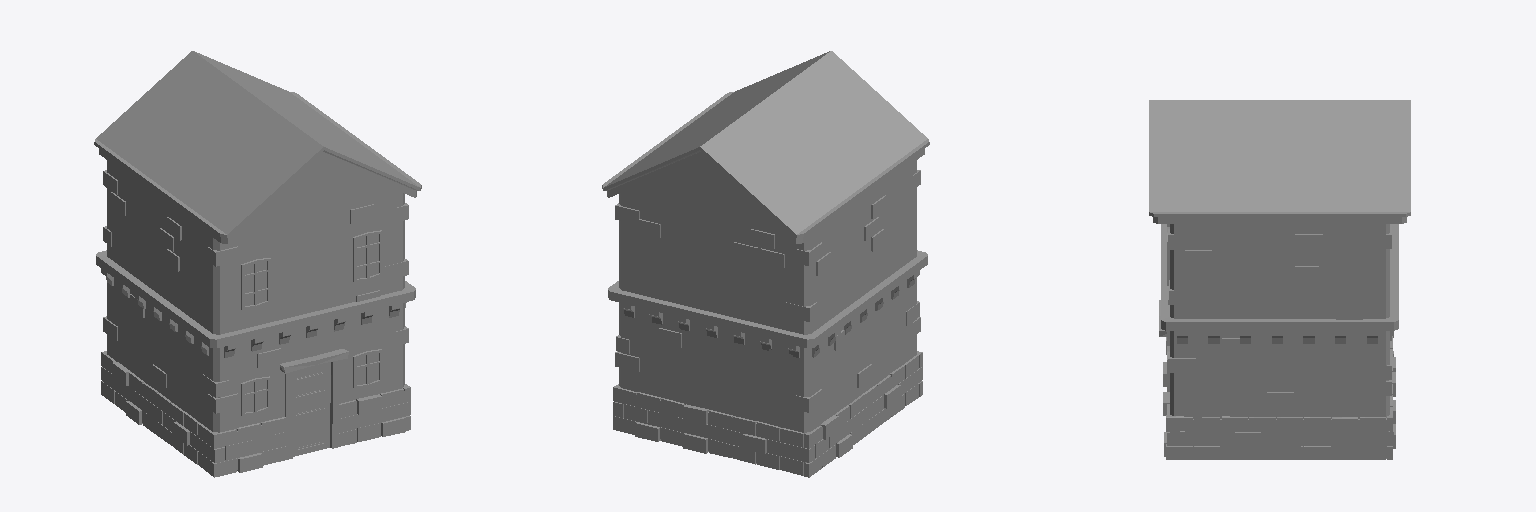
File: 2Story_GableRoof.obj
3 views of the same model, side by side, from view 1: azimuth 30°, elevation 25°; view 2: azimuth 150°, elevation 25°; view 3: azimuth 270°, elevation 25° (orthographic).
Visible parts, largest first — view 1: 2Story_GableRoof_Cube.161; view 2: 2Story_GableRoof_Cube.161; view 3: 2Story_GableRoof_Cube.161.
Part boxes in pixels (bbox=[...]): 2Story_GableRoof_Cube.161: bbox=[94, 51, 421, 477]; 2Story_GableRoof_Cube.161: bbox=[602, 51, 929, 477]; 2Story_GableRoof_Cube.161: bbox=[1149, 100, 1410, 459].
Size of the model in its own units: 2.16 by 3.13 by 2.38.